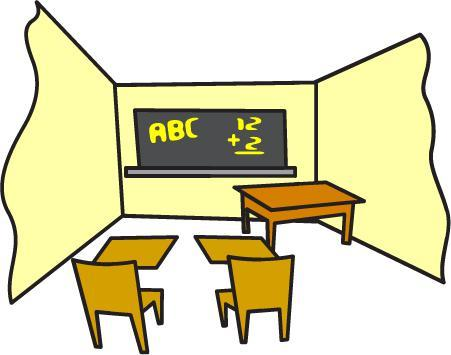chair: (57, 252, 167, 353), (207, 253, 296, 346)
diningtable: (230, 179, 357, 254)
